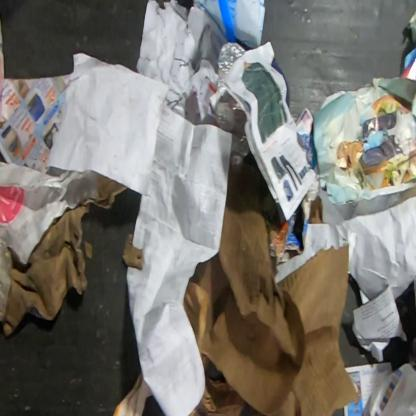cardboard: (0, 160, 129, 339)
rigid_plastic: (215, 42, 251, 166)
